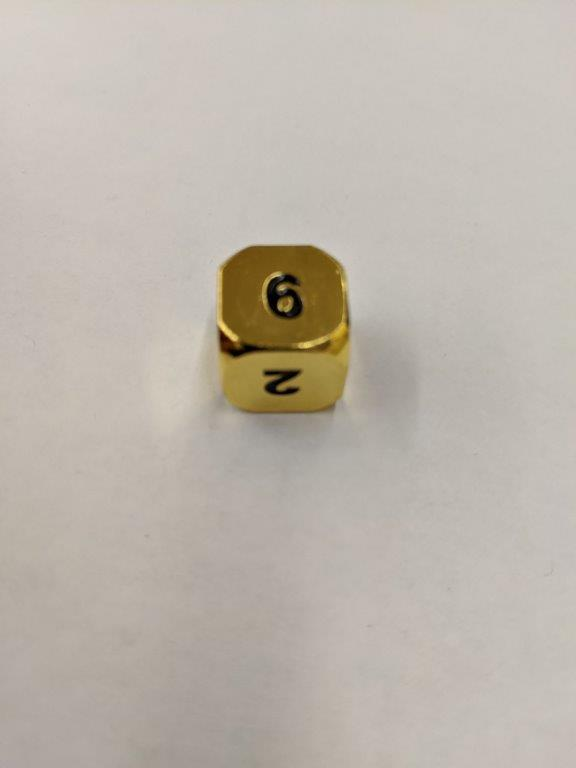d6-6: (213, 243, 352, 417)
